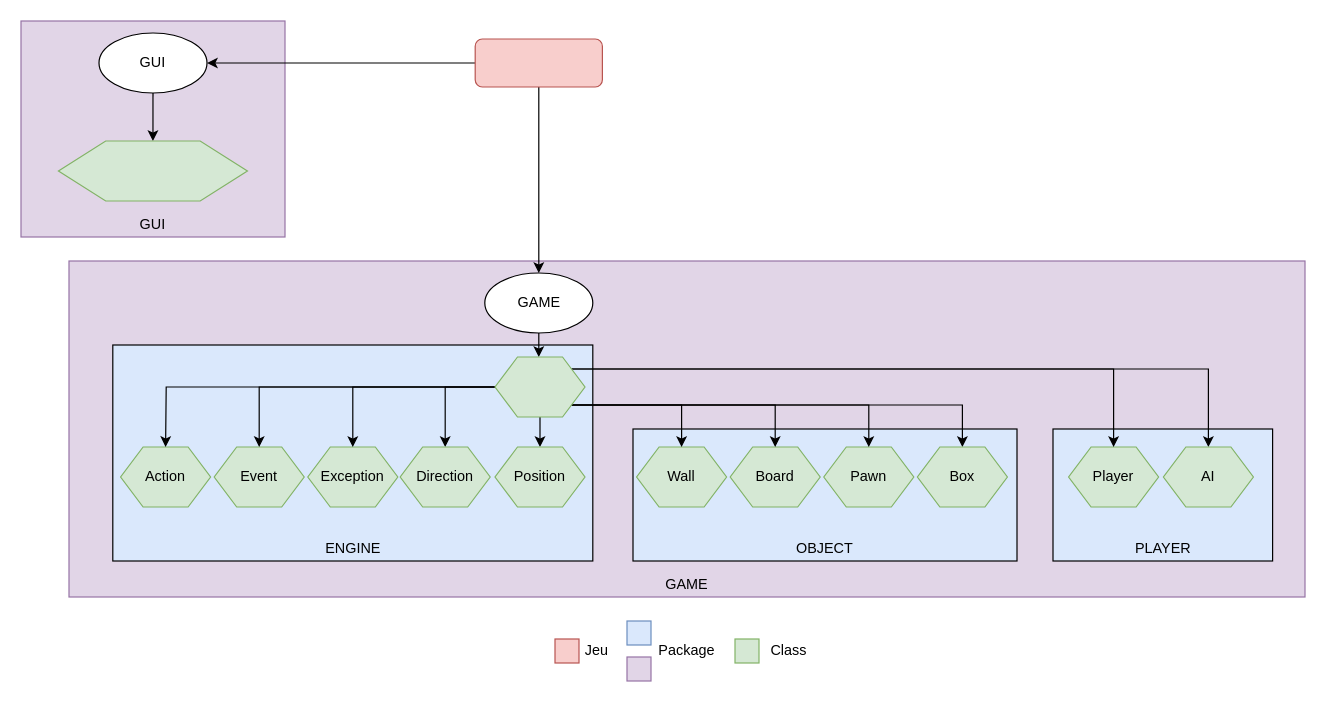
Image size: 1326x702. Some labels were removed from this diagram. Each missing label, with the box of its shape:
GameVisualisation: (57, 140, 247, 201)
Main: (494, 356, 585, 417)
QUORIDOR: (474, 38, 602, 87)
